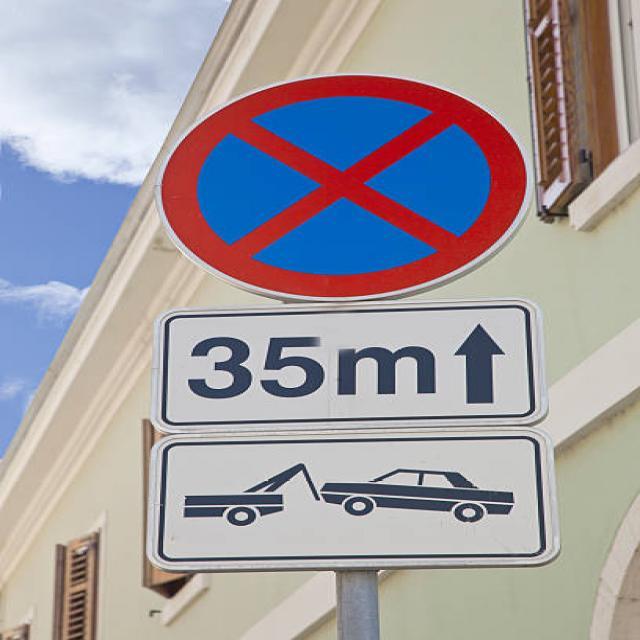no_parking: (131, 56, 546, 305)
